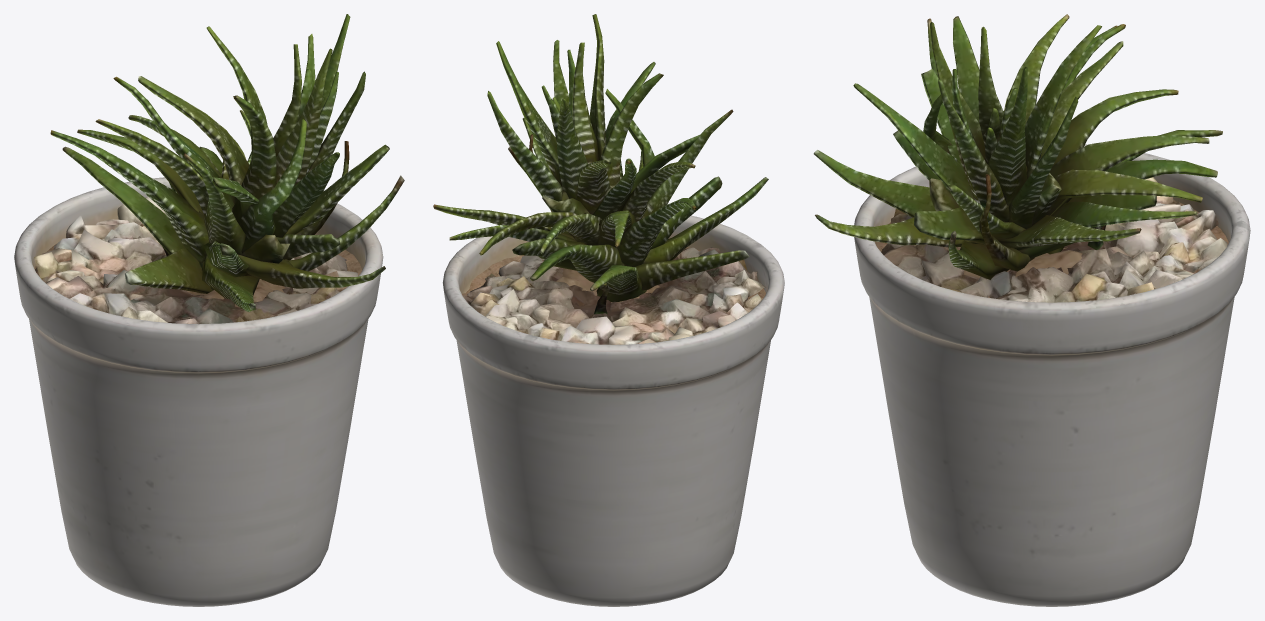
Rendered from potted_plant_04_4k-transformed.glb.
3 views of the same model, side by side, from view 1: azimuth 30°, elevation 25°; view 2: azimuth 150°, elevation 25°; view 3: azimuth 270°, elevation 25° (orthographic). The views are drawn at different scales.
Visible parts, largest first — view 1: potted_plant_04_ground; view 2: potted_plant_04_ground; view 3: potted_plant_04_ground.
Boxes of the visible parts, <box> form: potted_plant_04_ground: <box>14,14,404,606</box>; potted_plant_04_ground: <box>433,14,784,606</box>; potted_plant_04_ground: <box>813,14,1250,606</box>.
Size of the model in its own units: 0.1679 by 0.2675 by 0.1848.
1 material, 1 textured.
